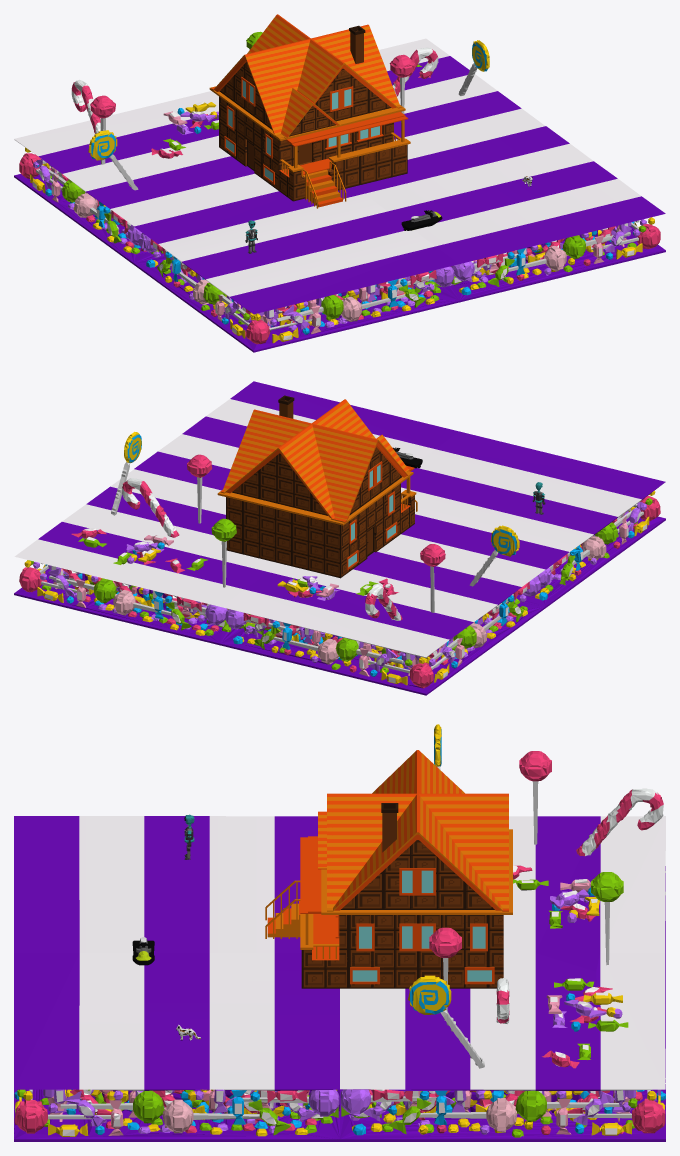
3 renders of one model, top to bottom at view 1: azimuth 30°, elevation 25°; view 2: azimuth 150°, elevation 25°; view 3: azimuth 270°, elevation 25°, orthographic. The views are drawn at different scales.
Parts seen in each view (by area): view 1: TERRAIN_CANDY, Cube, VEHICLES_WATERBIKE; view 2: TERRAIN_CANDY, Cube; view 3: TERRAIN_CANDY, Cube.
Boxes of the visible parts, left/top/right/bottom form: TERRAIN_CANDY: left=14, top=31, right=665, bottom=352; Cube: left=209, top=14, right=410, bottom=208; VEHICLES_WATERBIKE: left=401, top=210, right=442, bottom=230; TERRAIN_CANDY: left=14, top=381, right=665, bottom=695; Cube: left=217, top=395, right=417, bottom=578; TERRAIN_CANDY: left=14, top=724, right=665, bottom=1141; Cube: left=265, top=750, right=512, bottom=988.
Size of the model in its own units: 4059 by 1584 by 4000.
28 materials, 3 textured.
